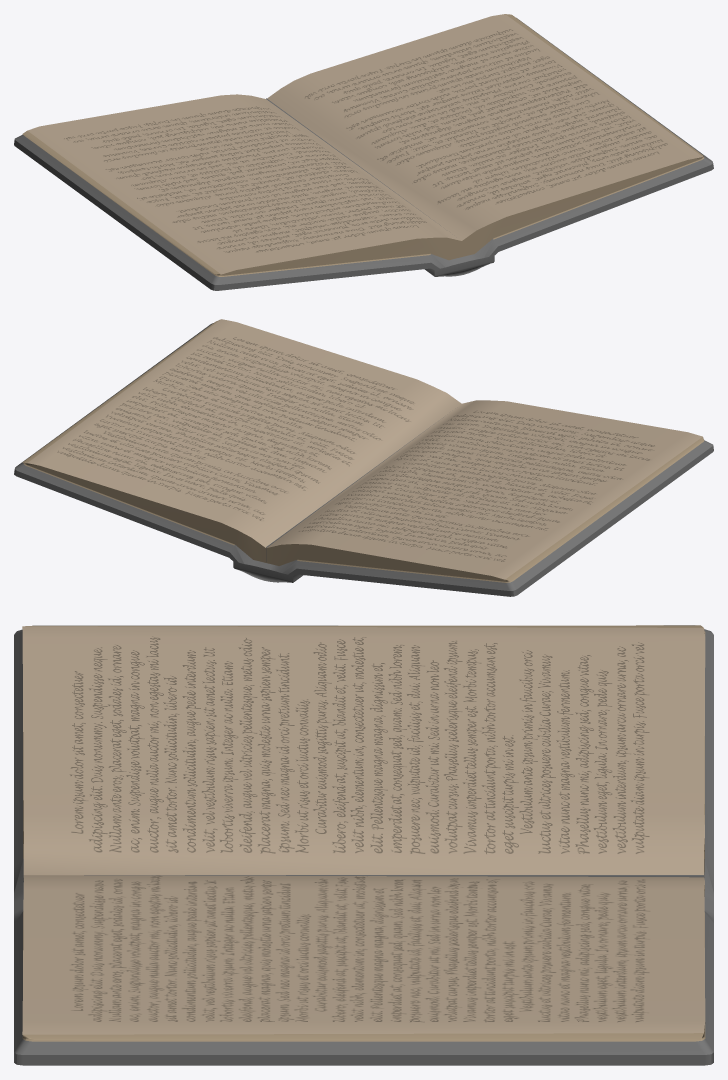
Rendered from Open_Book.fbx.
3 views of the same model, one above another, from view 1: azimuth 30°, elevation 25°; view 2: azimuth 150°, elevation 25°; view 3: azimuth 270°, elevation 25° (orthographic). The views are drawn at different scales.
Visible parts, largest first — view 1: Book_4; view 2: Book_4; view 3: Book_4.
Boxes of the visible parts, x1,y1,x2,y2 form: Book_4: (14, 14, 713, 290); Book_4: (14, 319, 713, 596); Book_4: (14, 625, 713, 1065).
Size of the model in its own units: 111 by 12.44 by 76.75.
3 materials, 1 textured.
